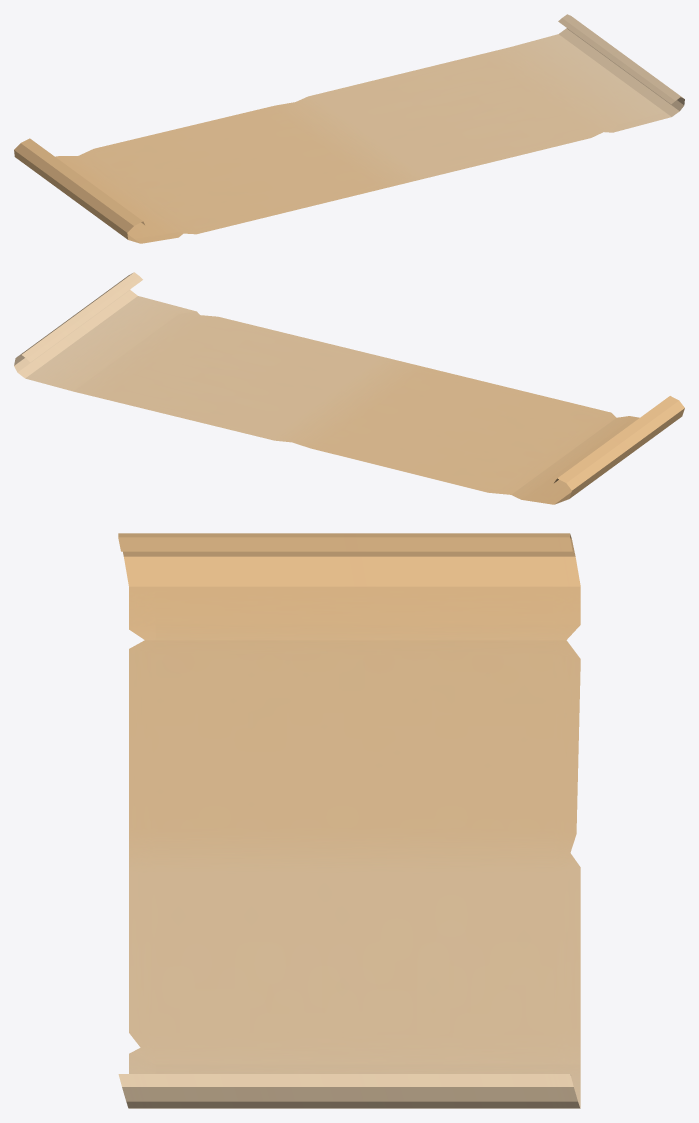
Rendered from blockHolder.fbx.
3 views of the same model, one above another, from view 1: azimuth 30°, elevation 25°; view 2: azimuth 150°, elevation 25°; view 3: azimuth 270°, elevation 25° (orthographic). The views are drawn at different scales.
Parts seen in each view (by area): view 1: Plane.002; view 2: Plane.002; view 3: Plane.002.
Boxes of the visible parts, <box> form: Plane.002: <box>14,14,684,243</box>; Plane.002: <box>14,272,684,504</box>; Plane.002: <box>118,533,580,1108</box>.
Bounding box in the file's own units: 210 × 10.32 × 75.75.
